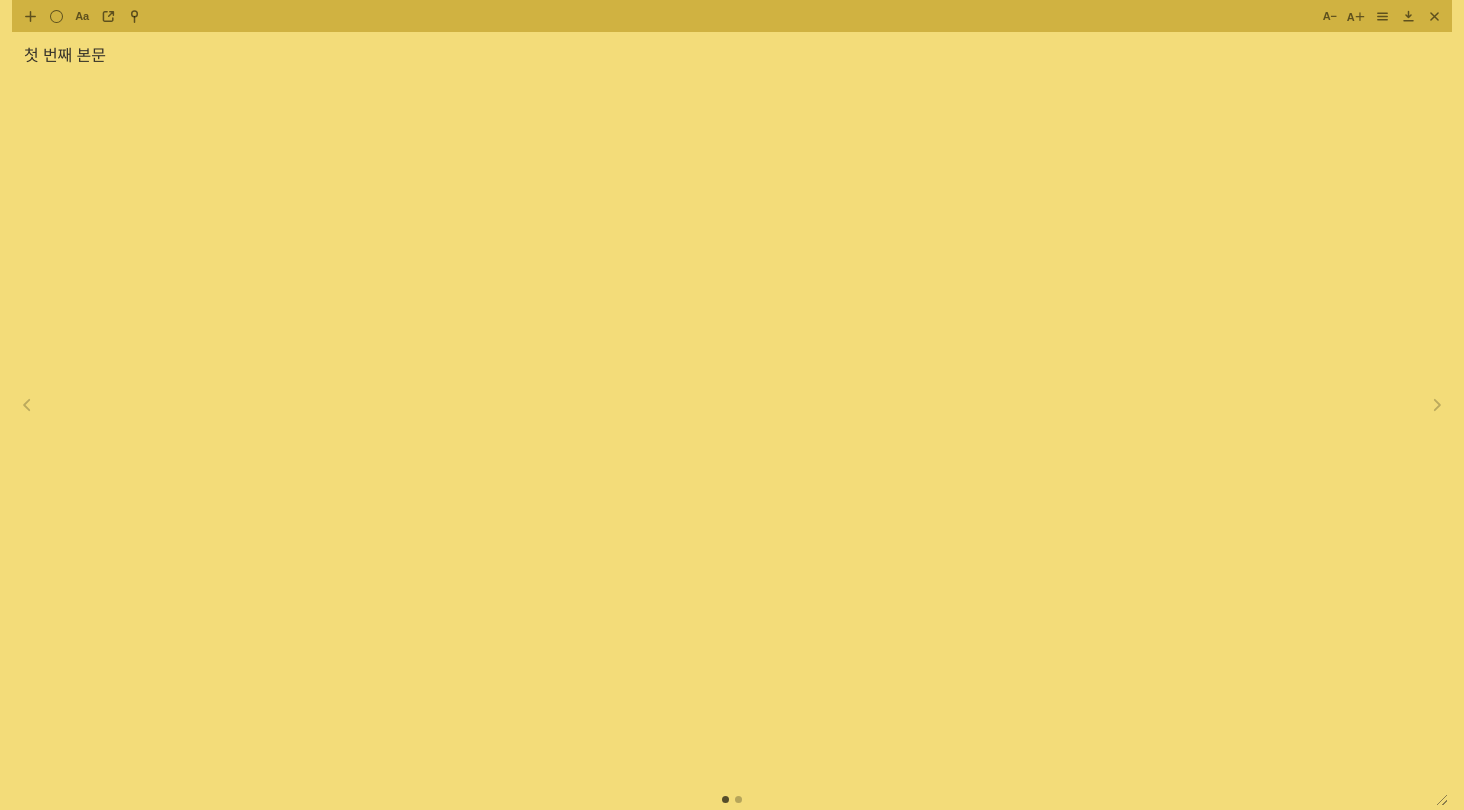
Scenario: NoteApp 그룹 UI › 이동하면 에디터가 다음 노트의 본문을 보여준다 (#74 stale body 회귀)
What coordinates should you click on to do the following:
click the button titled "다음 노트 (Alt+→)"
I would click on:
 (1437, 405)
Its box is [1424,382,1450,428].
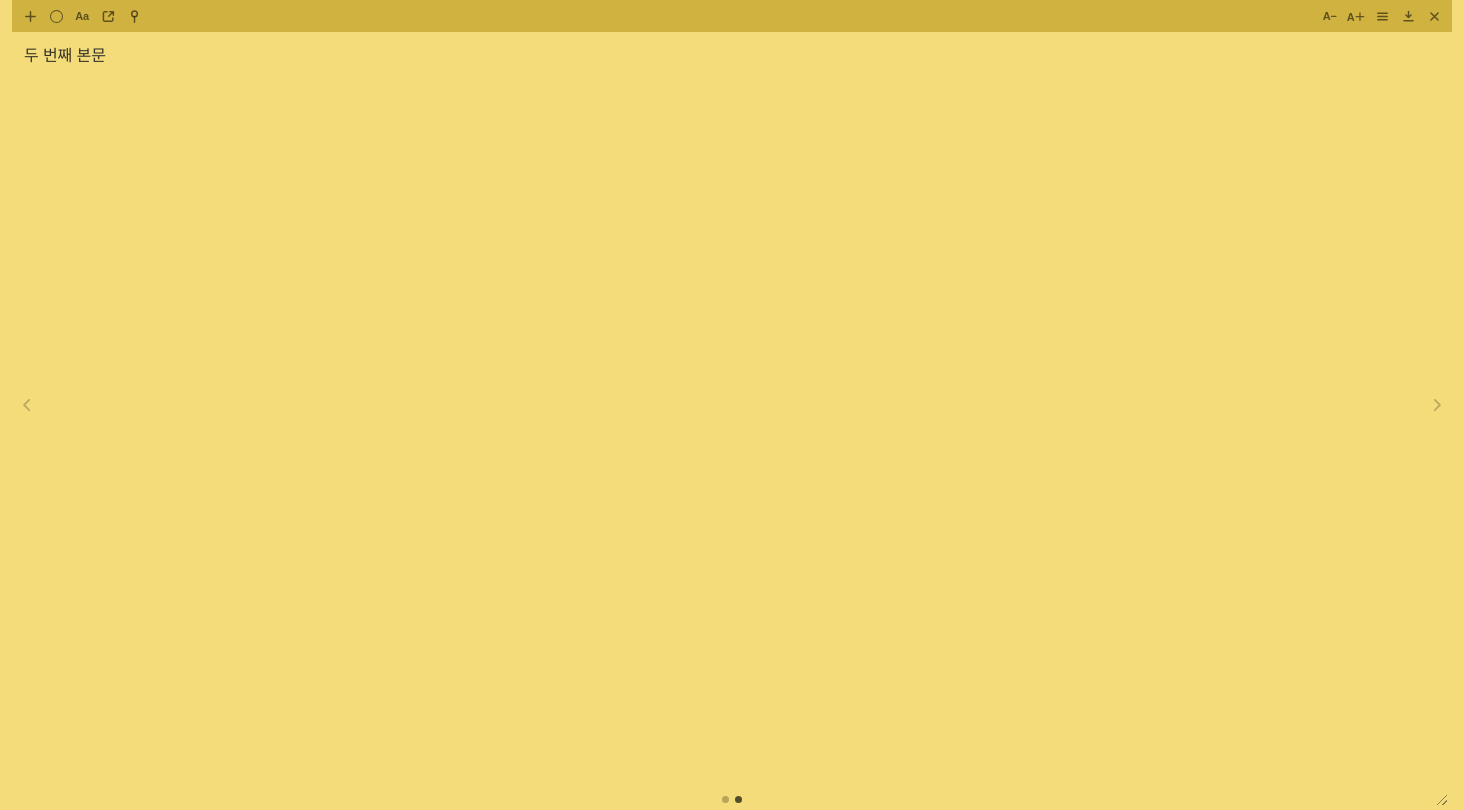
Expected: the text box "두 번째 본문" is shown, [24,44,106,66]
